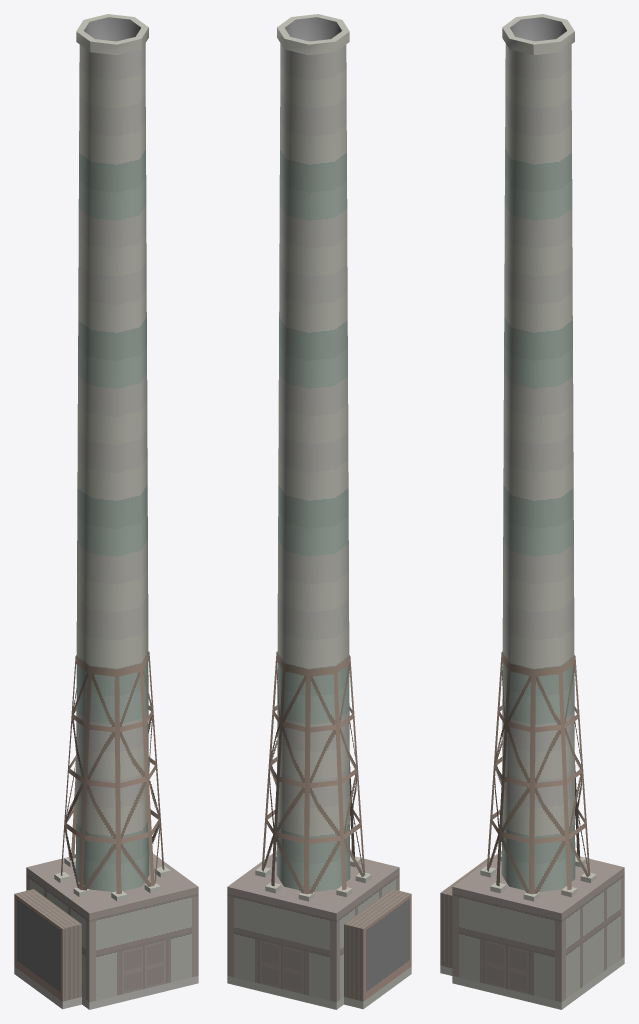
The model's file is 0267_Smokestack.glb.
3 views of the same model, side by side, from view 1: azimuth 30°, elevation 25°; view 2: azimuth 150°, elevation 25°; view 3: azimuth 330°, elevation 25° (orthographic).
Parts seen in each view (by area): view 1: part_0; view 2: part_0; view 3: part_0.
Boxes of the visible parts, <box> form: part_0: <box>14,14,198,1009</box>; part_0: <box>227,14,411,1009</box>; part_0: <box>440,14,624,1009</box>.
Size of the model in its own units: 5.3 by 37.17 by 4.5.
Materials: 1 (1 with a texture image).
